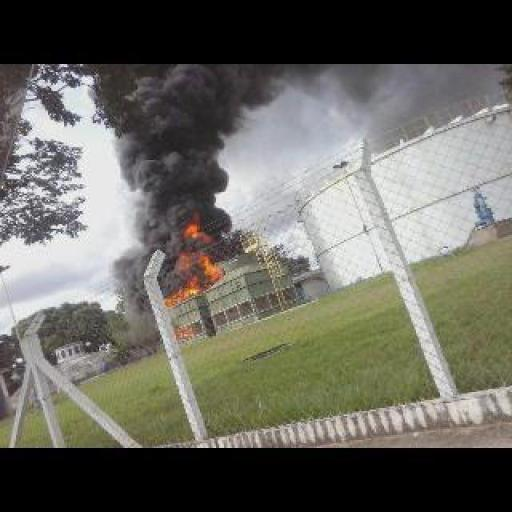smoke: (85, 66, 270, 256), (162, 222, 227, 310)
